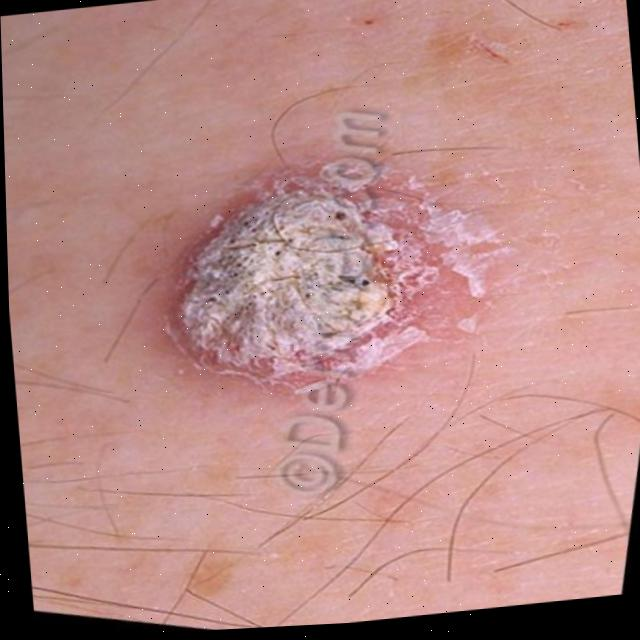Eczema: (159, 154, 473, 400)
